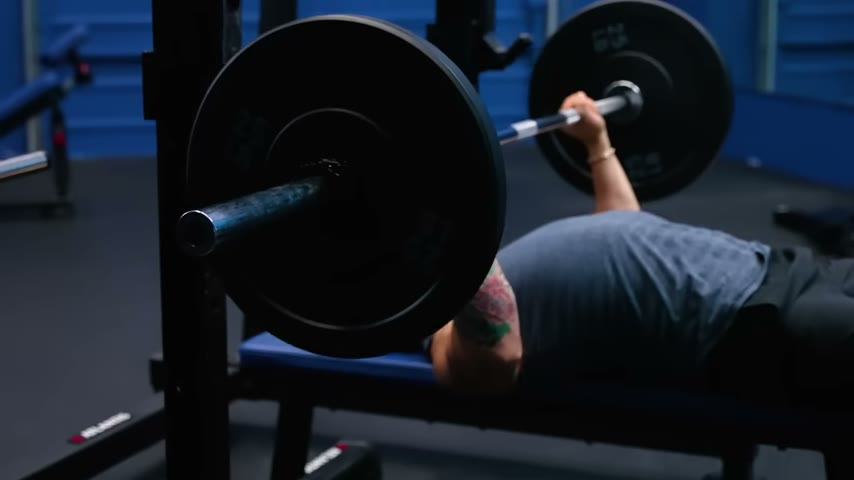barbell_plate_side: (175, 23, 307, 367), (627, 3, 745, 363)
